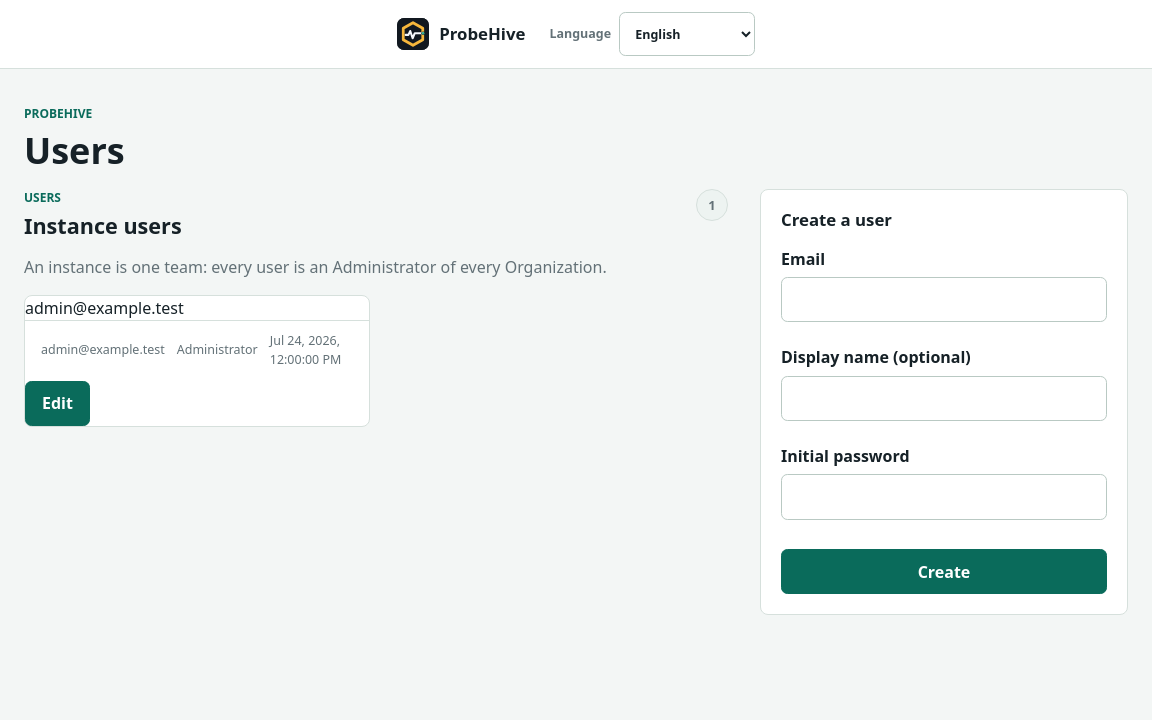
Test: shows a conflict message when the email is already in use
The image size is (1152, 720).
Type "admin@example.test" into the field labelled "Email" at coordinates (944, 300), box 781,277 -> 1107,322
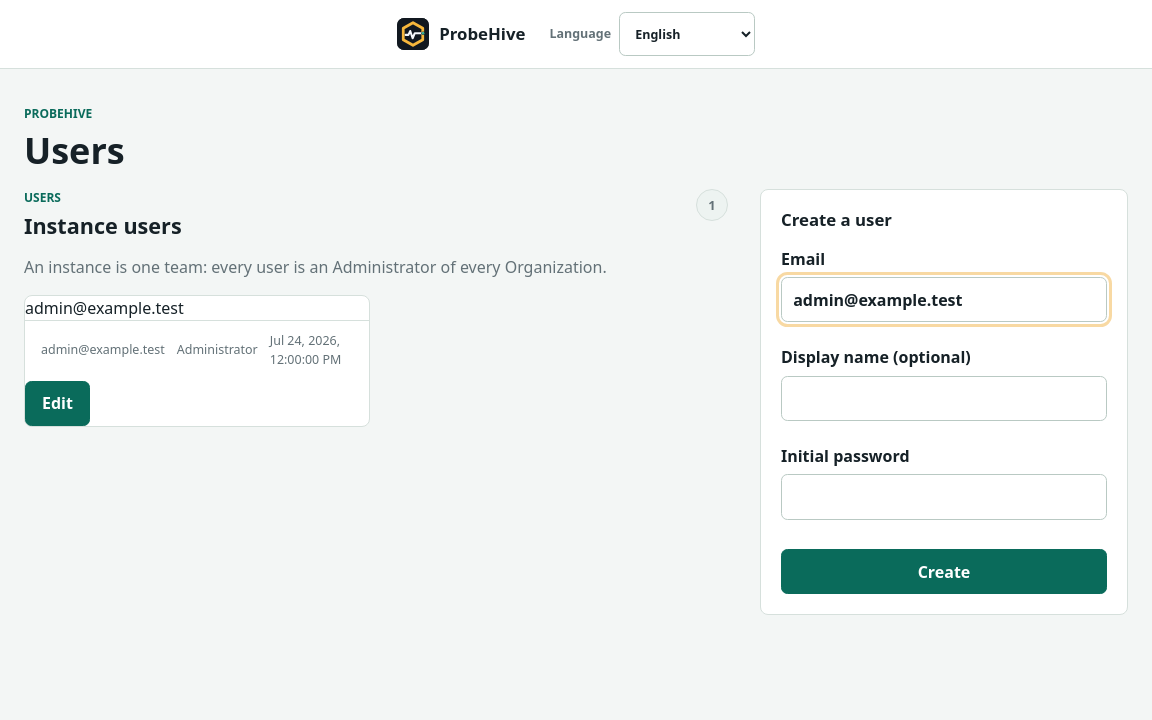
Type "a-long-teammate-password" into the password field labelled "Initial password" at coordinates (944, 497), box 781,474 -> 1107,520
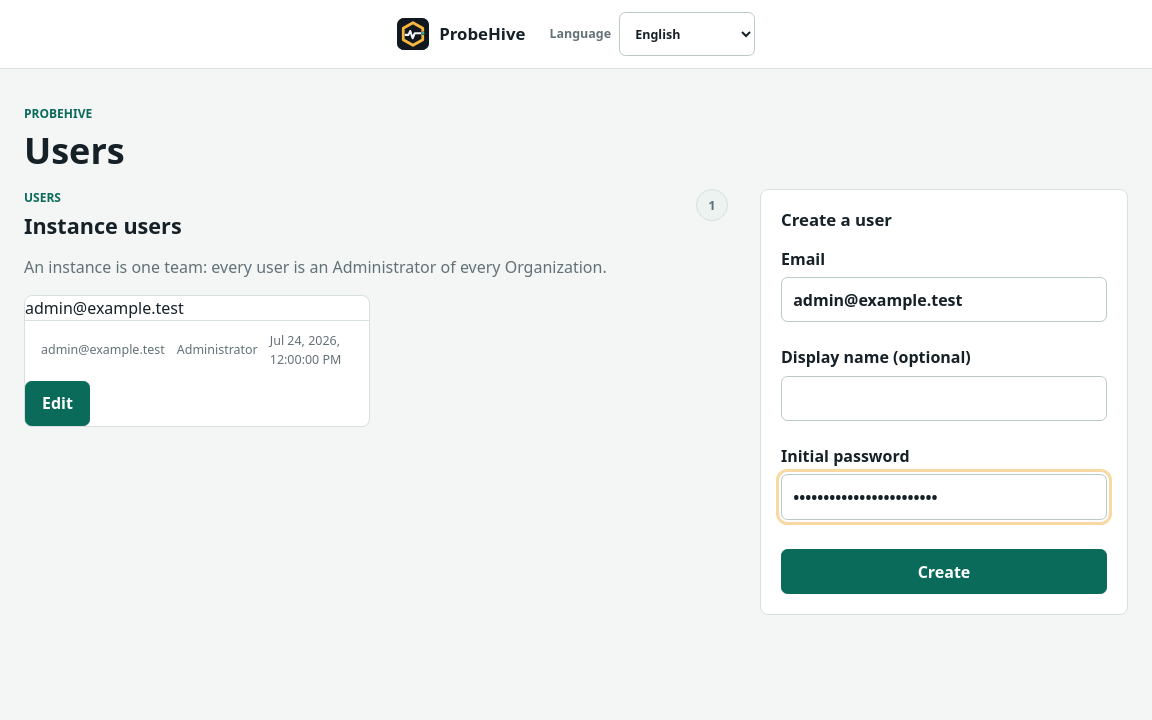
Click the button "Create" at coordinates (944, 572), box 781,549 -> 1107,594
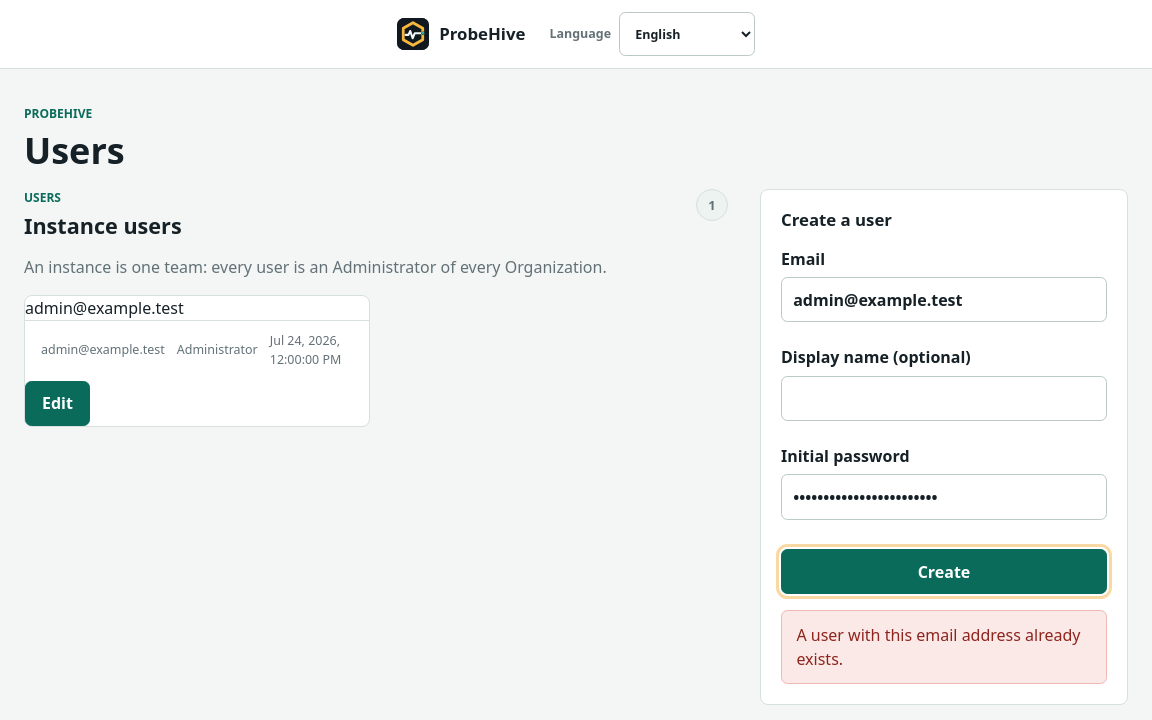
Expected: the text "A user with this email address already exists." is shown, 781,610 -> 1107,684
